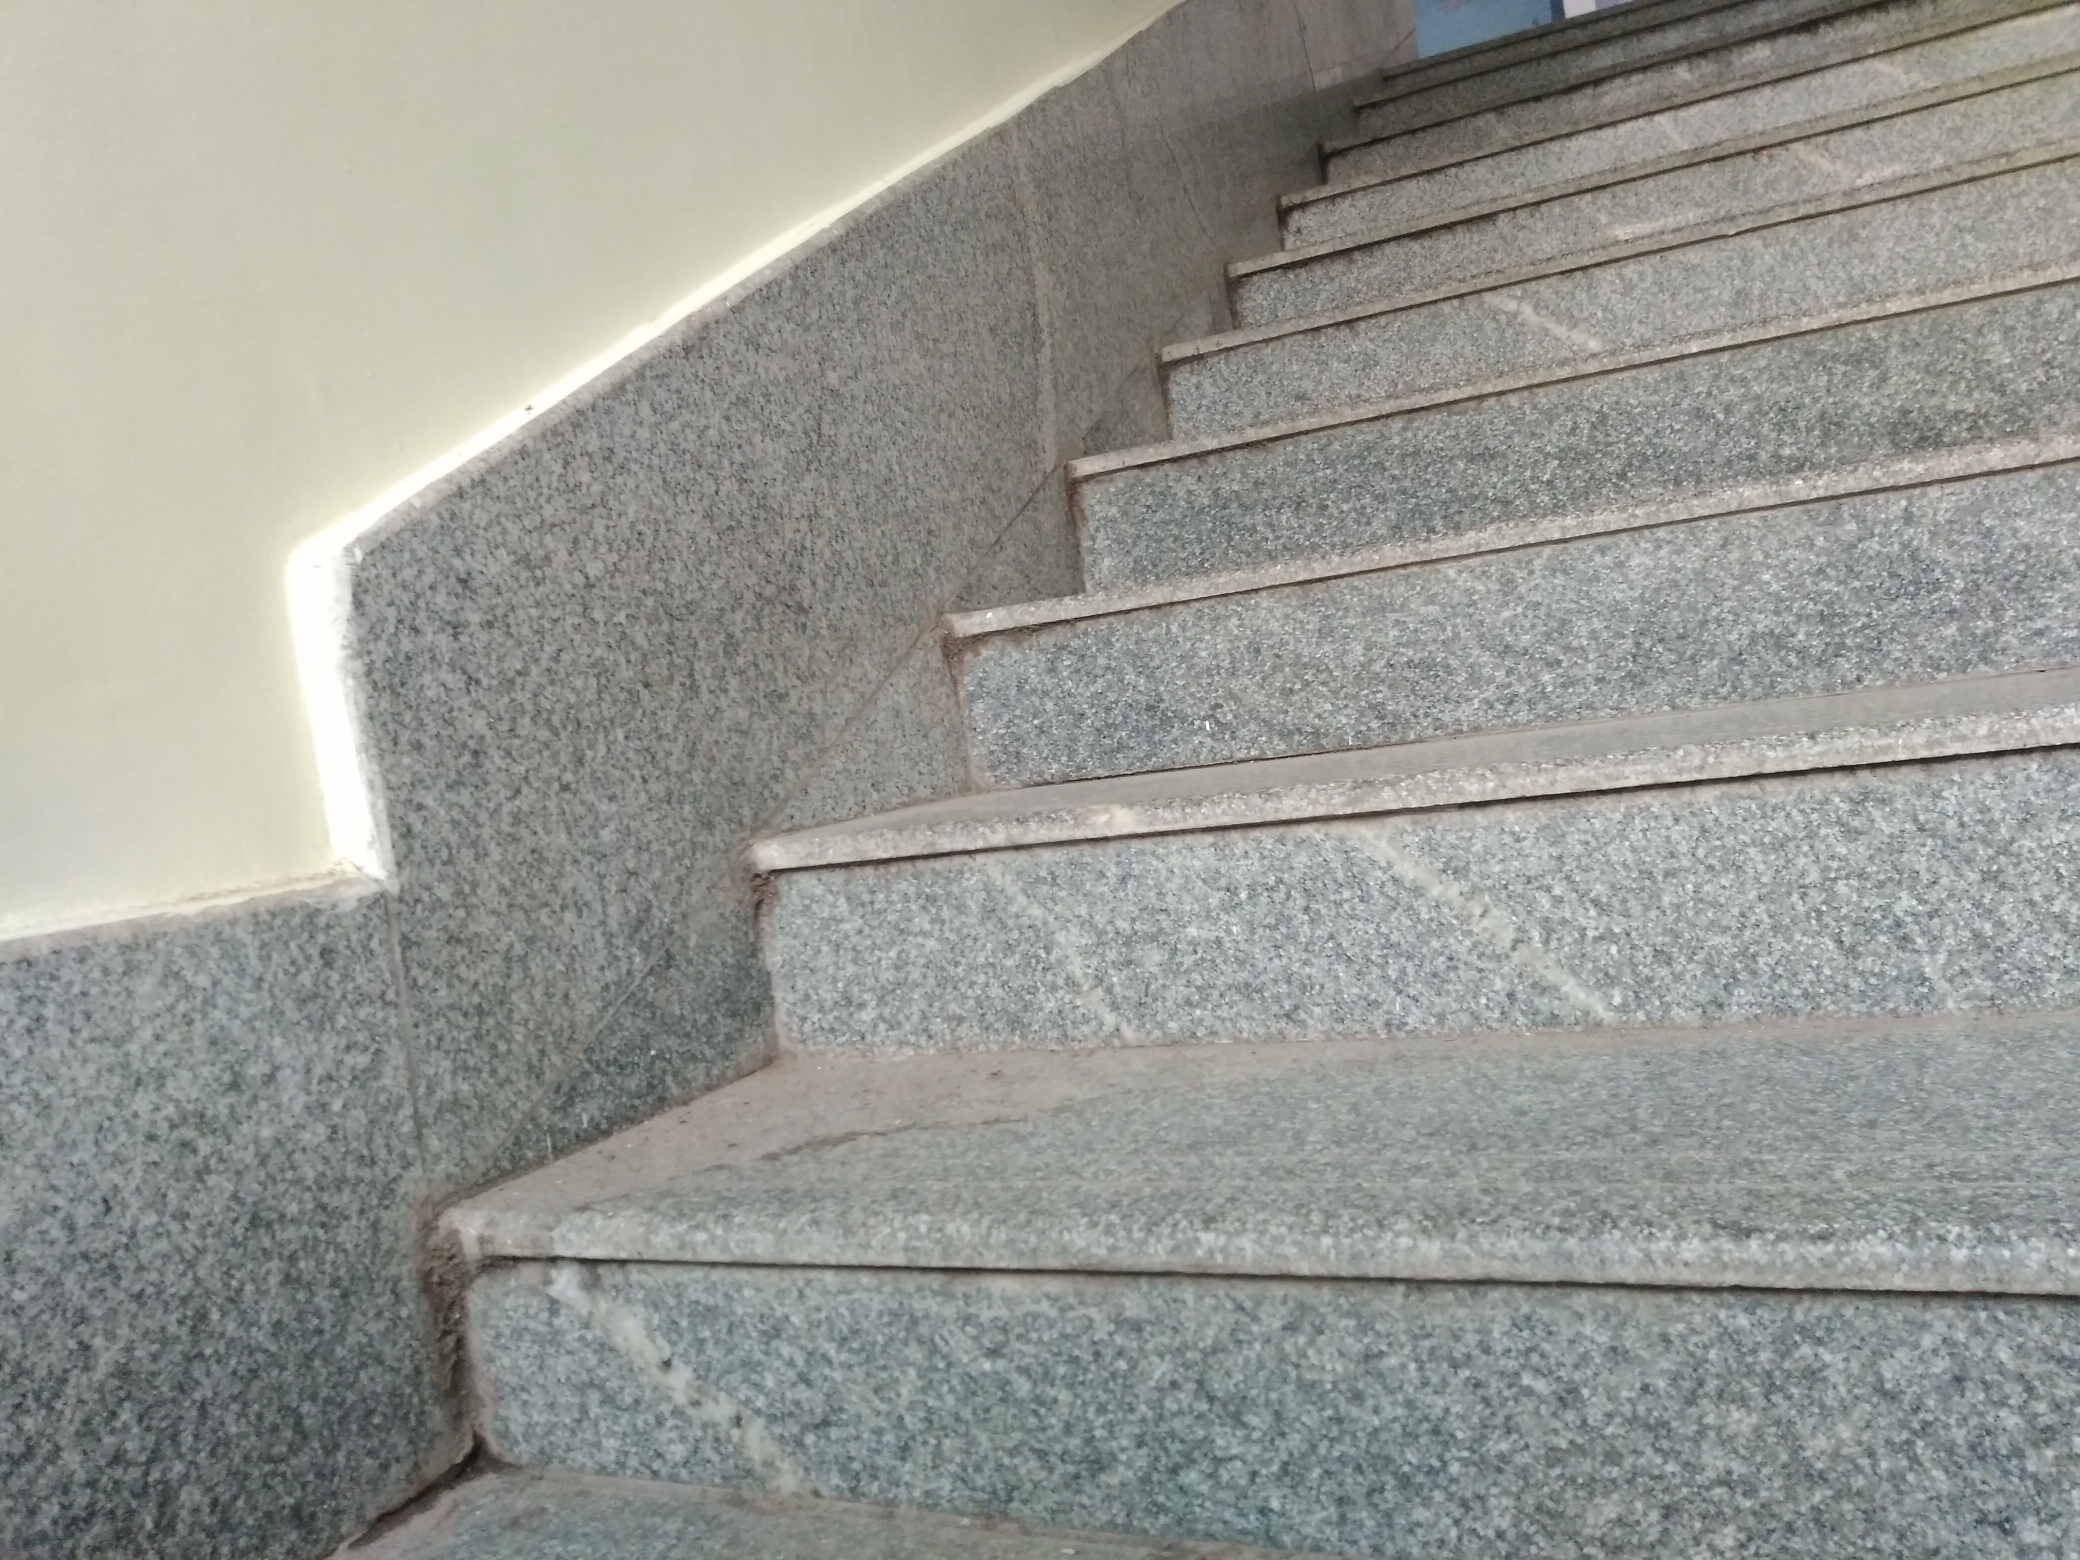stairs_up: (401, 5, 2077, 1553)
